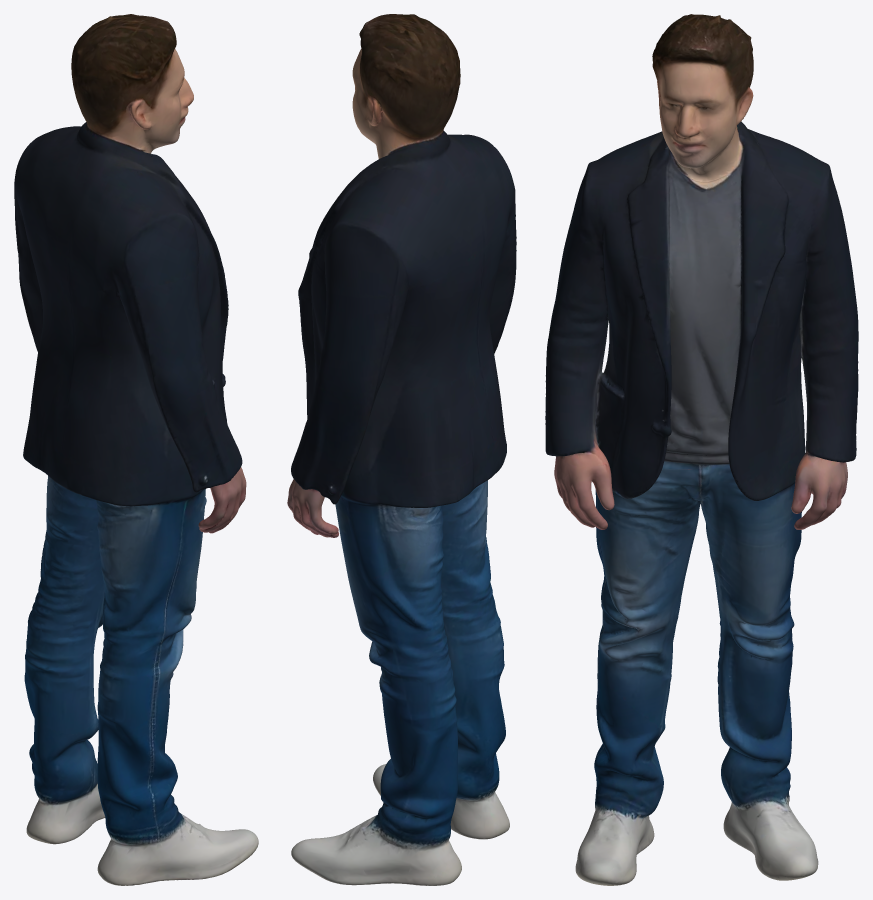
File: elon-musk.glb
The picture shows the model from 3 angles, left to right: view 1: azimuth 30°, elevation 25°; view 2: azimuth 150°, elevation 25°; view 3: azimuth 270°, elevation 25°; orthographic projection. The views are drawn at different scales.
Visible parts, largest first — view 1: tripo_node_ea4ac6f4-ff05-440a-8bcc-886674d0e676; view 2: tripo_node_ea4ac6f4-ff05-440a-8bcc-886674d0e676; view 3: tripo_node_ea4ac6f4-ff05-440a-8bcc-886674d0e676.
Part boxes in pixels (x1=…): tripo_node_ea4ac6f4-ff05-440a-8bcc-886674d0e676: x1=14, y1=14, x2=258, y2=885; tripo_node_ea4ac6f4-ff05-440a-8bcc-886674d0e676: x1=287, y1=14, x2=516, y2=885; tripo_node_ea4ac6f4-ff05-440a-8bcc-886674d0e676: x1=545, y1=14, x2=858, y2=885.
Size of the model in its own units: 0.2087 by 1 by 0.3388.
1 material, 1 textured.
